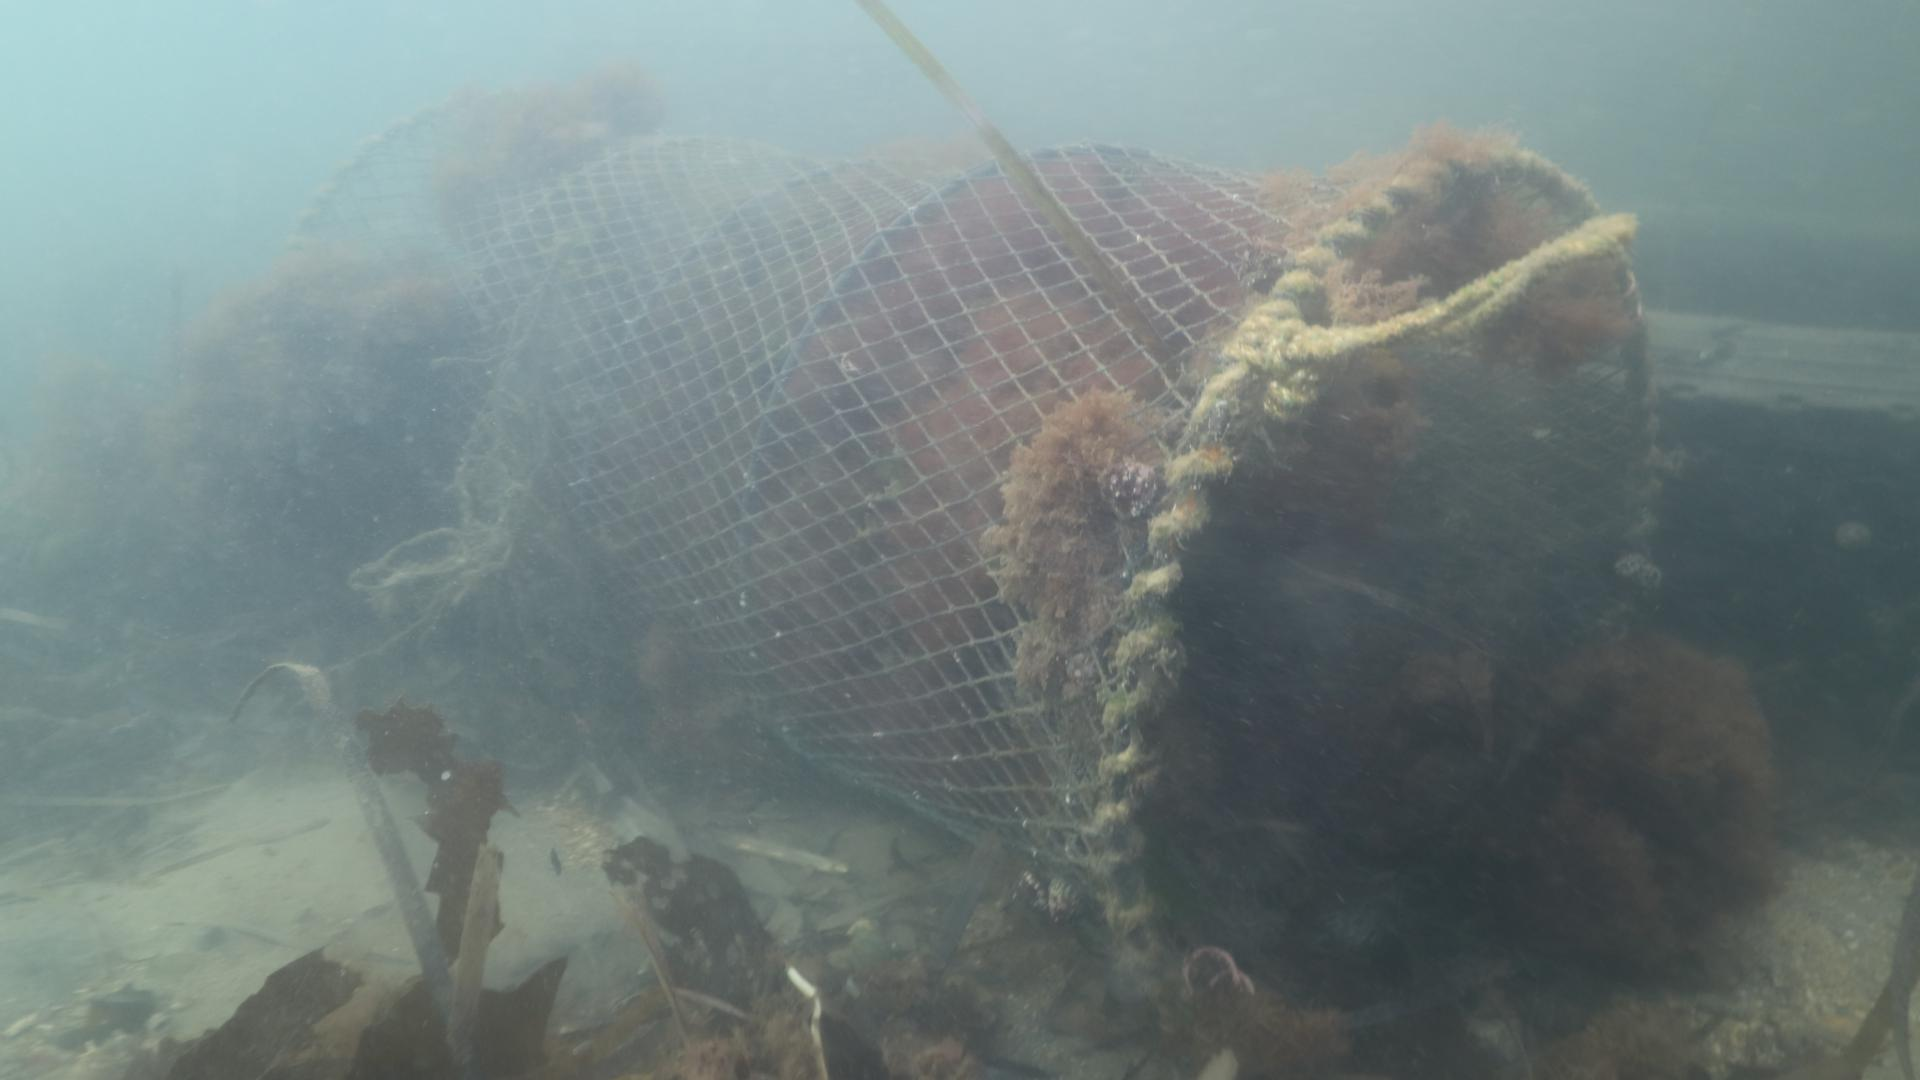spring fish trap: (269, 83, 1675, 1054)
